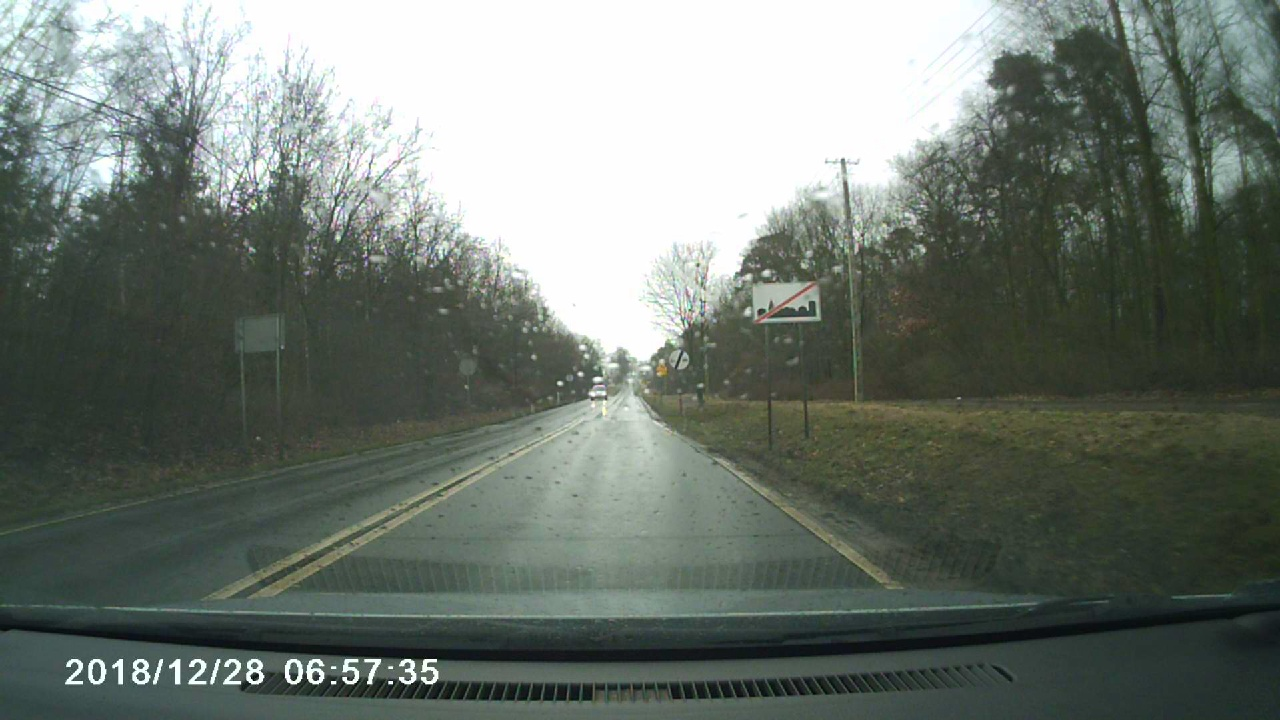D43: (740, 276, 832, 324)
